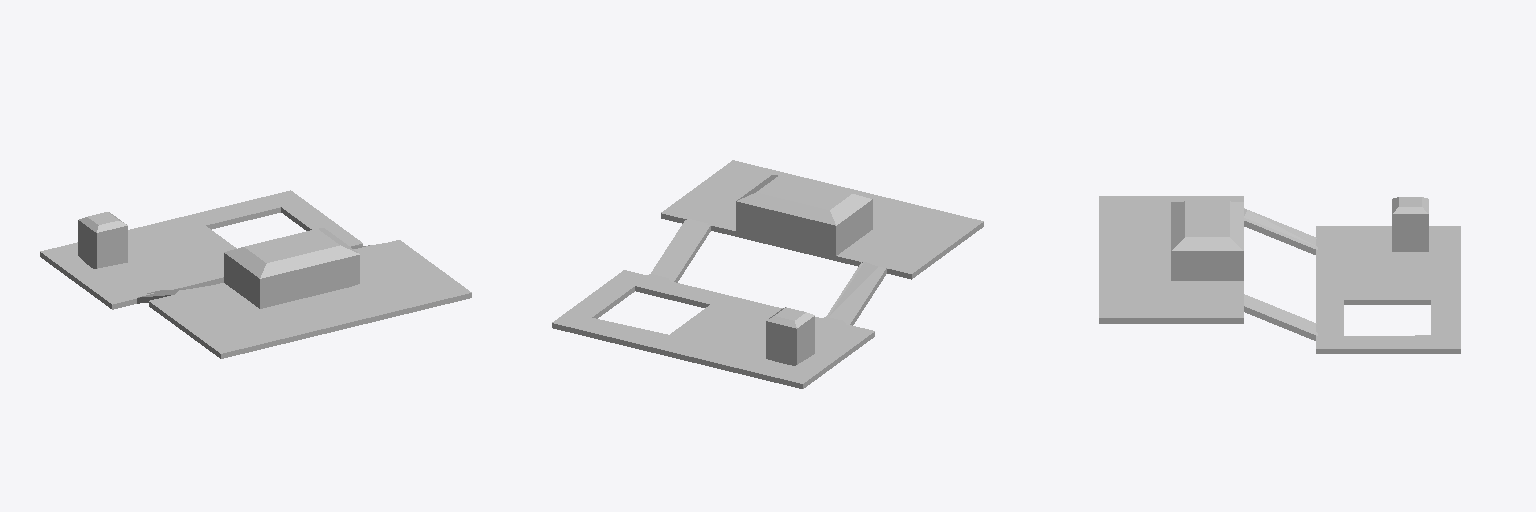
The model's file is mapao.obj.
3 renders of one model, left to right at view 1: azimuth 30°, elevation 25°; view 2: azimuth 150°, elevation 25°; view 3: azimuth 270°, elevation 25°, orthographic.
Parts seen in each view (by area): view 1: Navmesh, Cube.001, Cube, Cube.004; view 2: Navmesh, Cube.001, Cube, Cube.004, Cube.003, Cube.002; view 3: Navmesh, Cube.001, Cube, Cube.004, Cube.002, Cube.003.
Boxes of the visible parts, box(x1,y1,x2,y2) form: Navmesh: box(50, 192, 460, 347); Cube.001: box(149, 228, 471, 358); Cube: box(40, 190, 362, 309); Cube.004: box(78, 212, 127, 268); Navmesh: box(563, 163, 973, 376); Cube.001: box(661, 160, 983, 279); Cube: box(552, 270, 874, 388); Cube.004: box(766, 307, 814, 365); Cube.003: box(826, 262, 886, 325); Cube.002: box(651, 220, 710, 282); Navmesh: box(1106, 198, 1453, 342); Cube.001: box(1099, 196, 1243, 323); Cube: box(1316, 226, 1460, 353); Cube.004: box(1392, 197, 1428, 251); Cube.002: box(1244, 295, 1317, 340); Cube.003: box(1244, 208, 1317, 254).
Size of the model in its own units: 20 by 5.56 by 25.